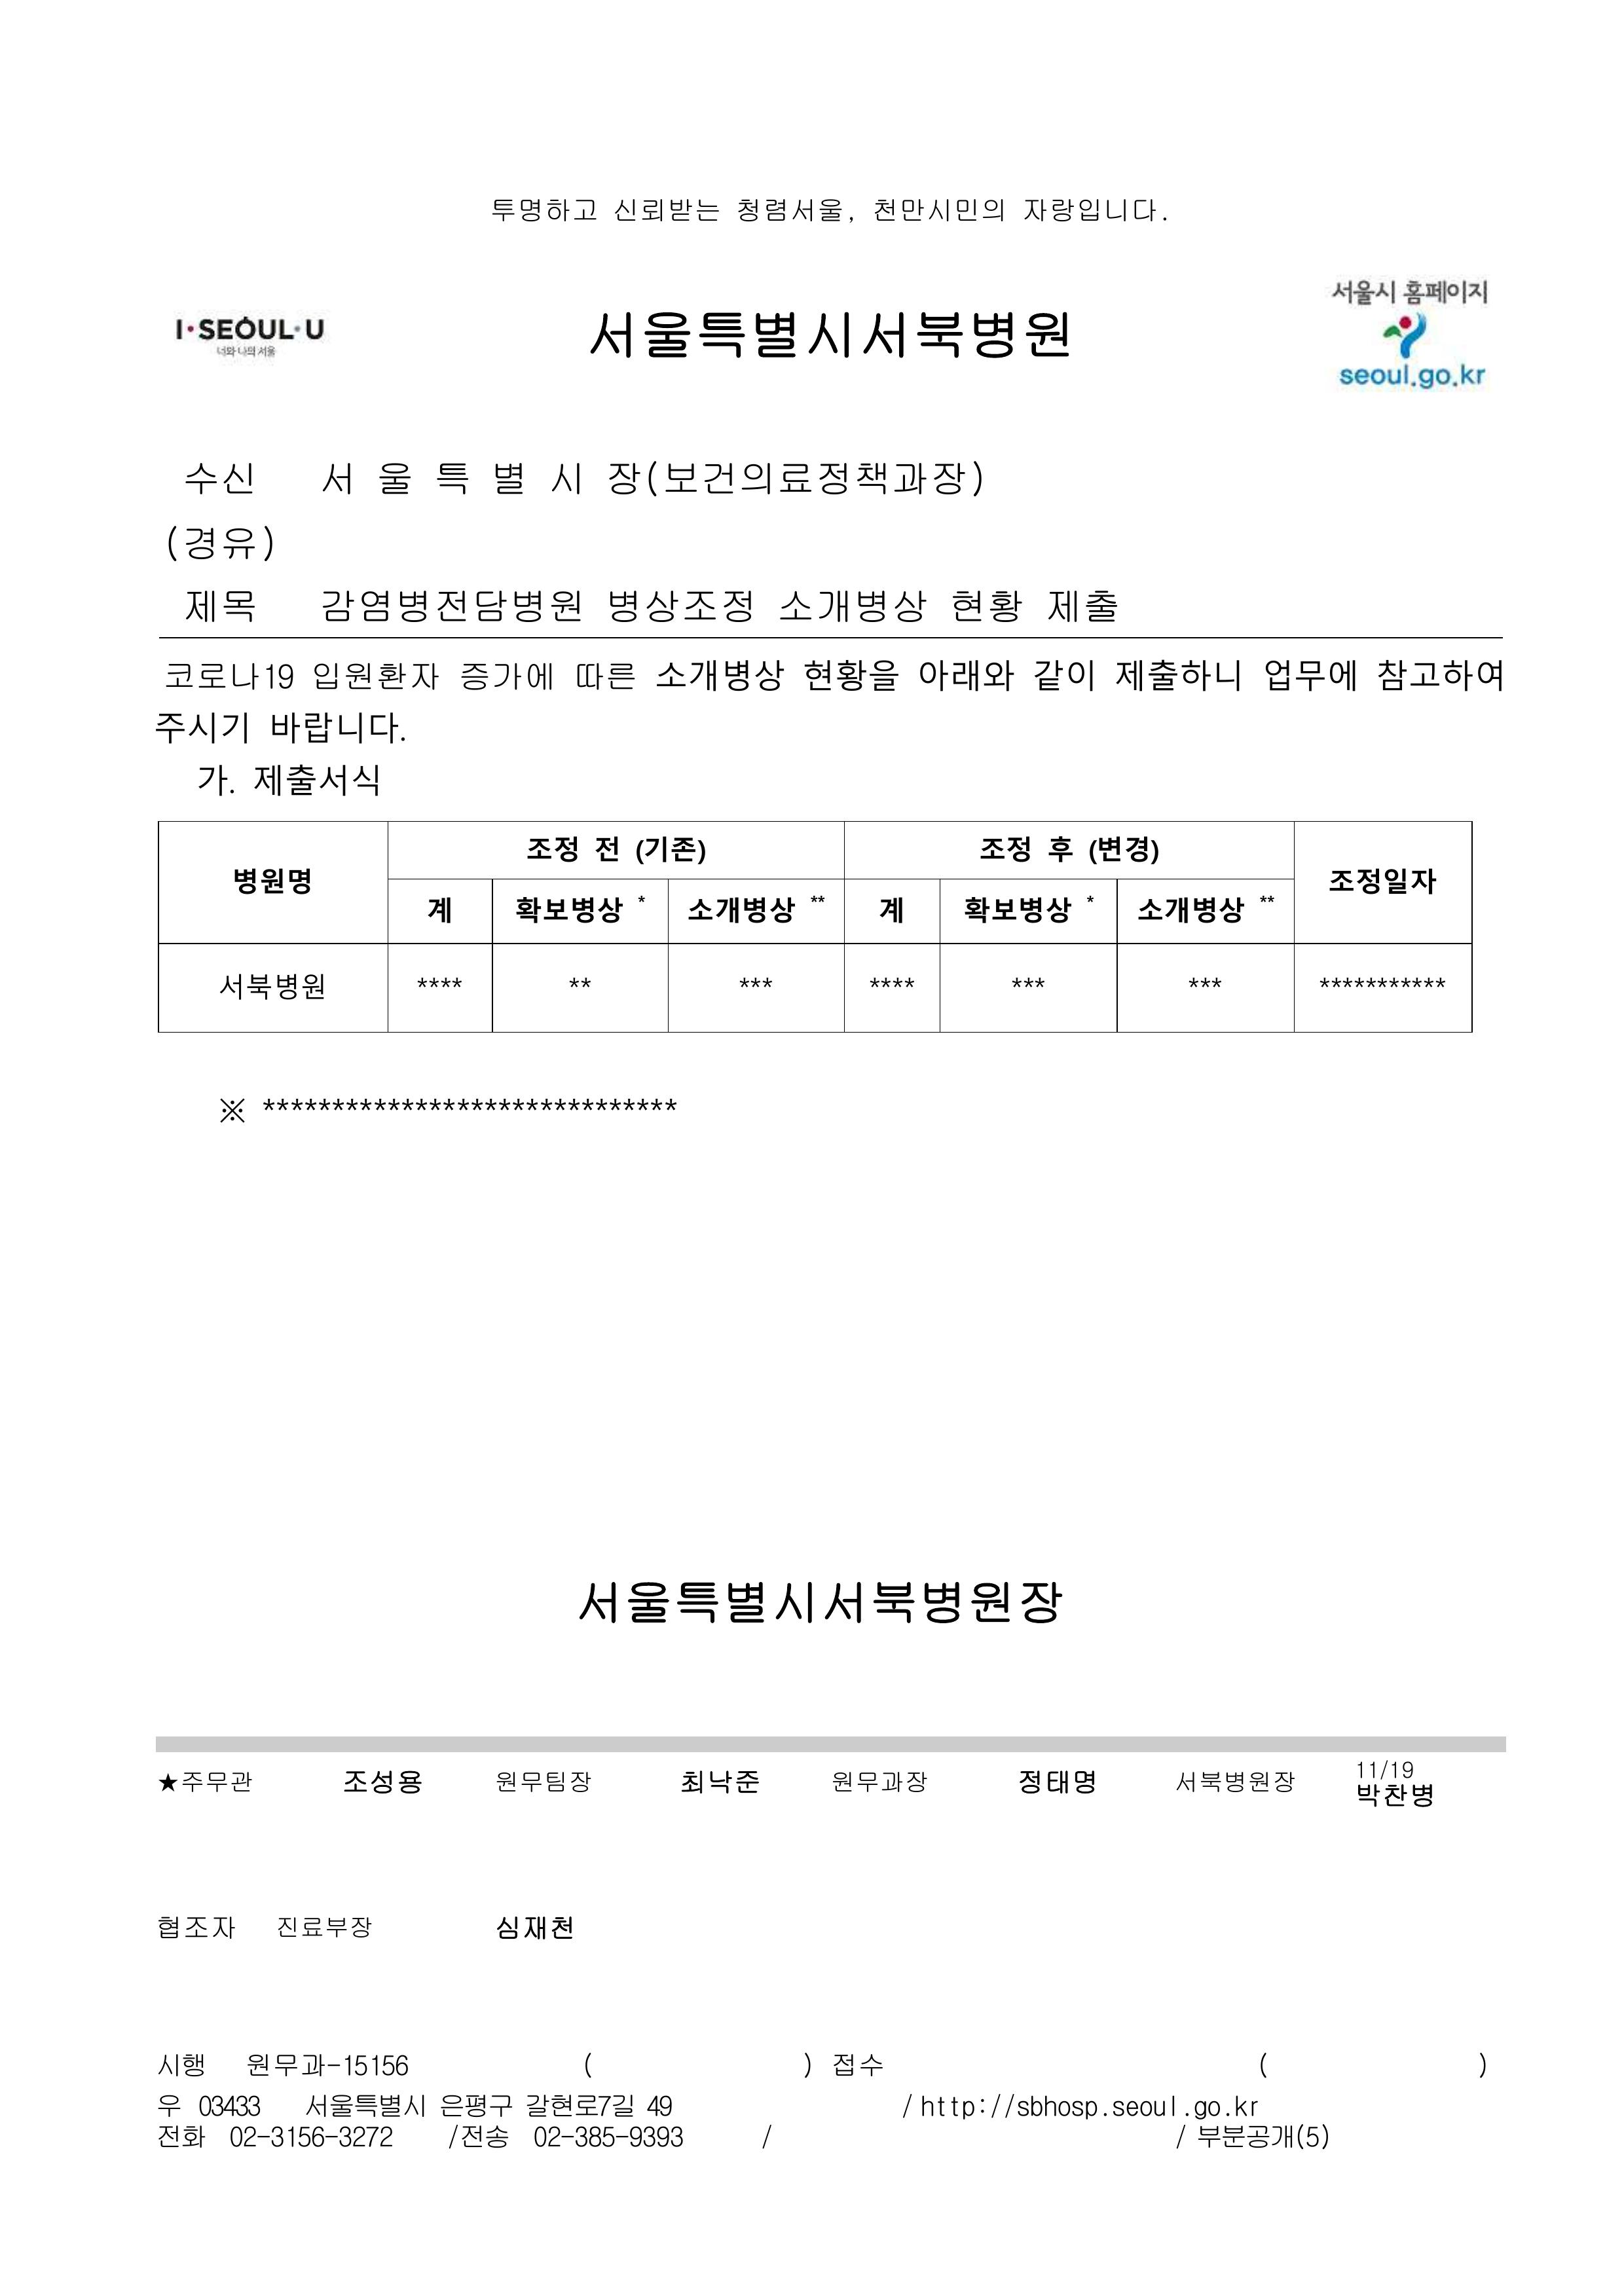t: (584, 304, 1069, 366), (576, 1578, 1065, 1631), (603, 459, 990, 501), (318, 583, 589, 631), (773, 583, 932, 631), (603, 583, 756, 631), (975, 831, 1162, 868), (524, 831, 707, 868), (1111, 652, 1244, 699), (318, 459, 473, 499), (262, 1097, 678, 1111), (652, 655, 786, 696), (1373, 655, 1506, 696), (227, 2119, 397, 2151), (265, 706, 404, 745), (169, 311, 327, 344), (244, 2047, 411, 2079), (246, 761, 380, 800), (1352, 1757, 1438, 1815), (162, 524, 279, 566), (800, 652, 903, 699), (531, 2119, 685, 2151), (1018, 193, 1162, 227), (308, 655, 441, 691), (165, 655, 297, 691), (872, 193, 1007, 227), (301, 2088, 427, 2123), (1193, 2119, 1330, 2151), (1327, 863, 1438, 900), (513, 893, 627, 928), (961, 893, 1076, 928), (1134, 893, 1248, 928), (1262, 655, 1359, 696), (218, 968, 327, 1003), (731, 193, 845, 227), (487, 193, 599, 227), (610, 193, 721, 227), (455, 659, 555, 696), (914, 655, 1018, 691), (946, 583, 1028, 627), (685, 893, 800, 924), (1172, 1768, 1297, 1796), (524, 2089, 638, 2119), (155, 710, 251, 745), (228, 863, 311, 900), (1397, 276, 1492, 308), (1044, 583, 1118, 624), (183, 459, 255, 499), (828, 1768, 928, 1796), (1028, 655, 1097, 696), (276, 1915, 373, 1944), (1004, 2095, 1100, 2123), (341, 1764, 424, 1796), (678, 1764, 761, 1796), (155, 1912, 237, 1944), (183, 589, 255, 624), (494, 1912, 573, 1944), (156, 1771, 255, 1796), (494, 1771, 591, 1796), (1014, 1768, 1097, 1796), (573, 655, 638, 691), (1327, 276, 1397, 308), (193, 2089, 265, 2119), (917, 2095, 990, 2123), (445, 2119, 508, 2151), (1111, 2096, 1179, 2123), (1316, 975, 1445, 989), (1338, 366, 1420, 387), (828, 2047, 882, 2079), (193, 763, 239, 800), (438, 2089, 487, 2123), (487, 459, 527, 499), (155, 2051, 207, 2079), (548, 459, 584, 499), (424, 893, 455, 924), (875, 893, 907, 924), (1417, 366, 1452, 390), (1459, 362, 1489, 387), (645, 2095, 673, 2119), (1234, 2096, 1262, 2119), (1193, 2102, 1223, 2123), (183, 2126, 207, 2151), (1186, 975, 1223, 989), (800, 2054, 821, 2079), (417, 975, 462, 986), (868, 975, 914, 986), (738, 975, 772, 989), (156, 2126, 183, 2144), (1011, 975, 1044, 986), (566, 975, 591, 986)
